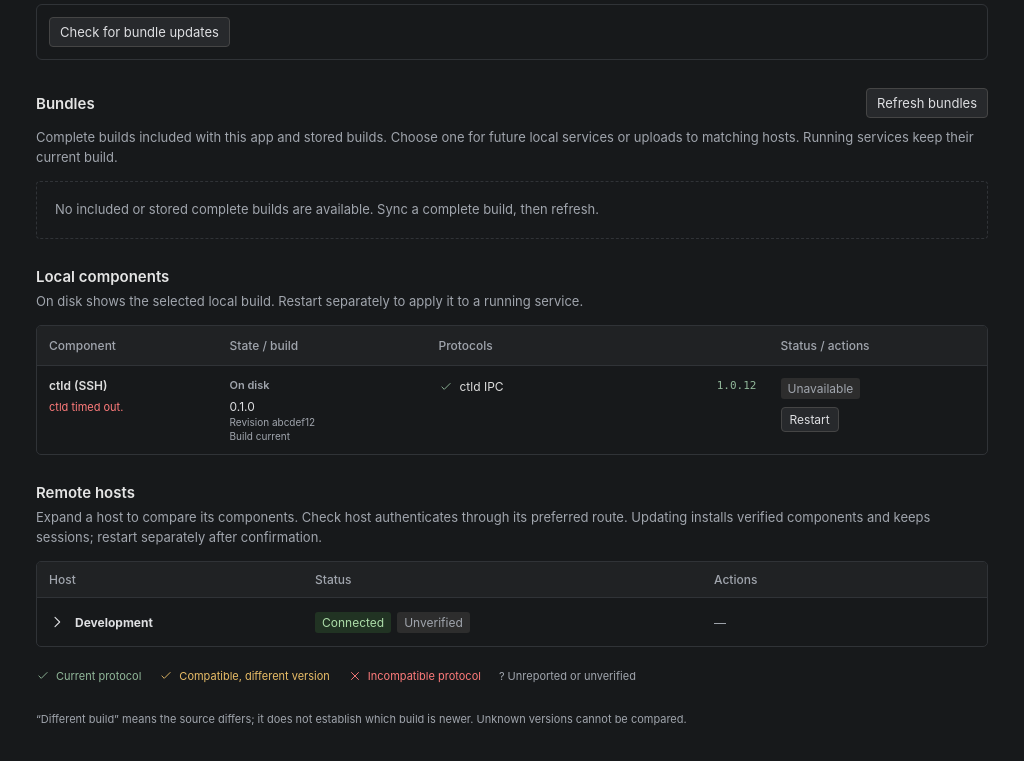
Test: About page › keeps other components visible when one version probe fails
(page scrolled)
Expected: the table named "This computer component versions" is shown, [37,326,987,454]
Click the button with aria-label "Show components for ". click: (170,622)
box: [49,610,291,634]
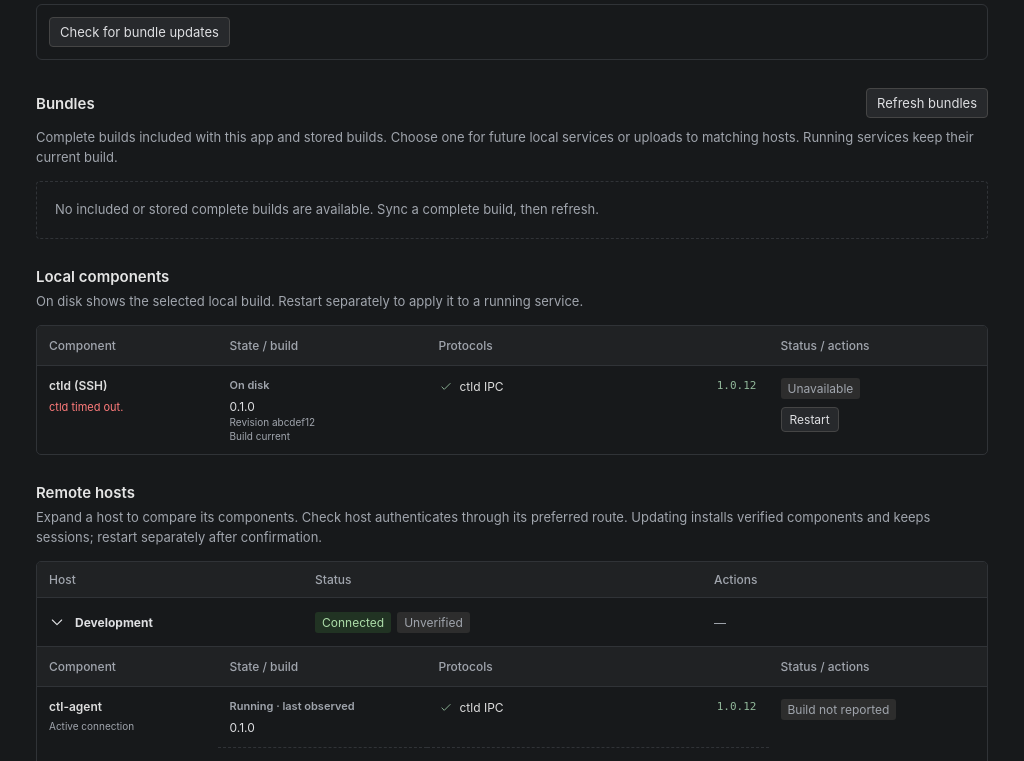
Expected: the text "ctld timed out." is shown, [49,399,123,416]
Now the text titled "ctl-agent — Development" is shown, box [49,699,102,714]
